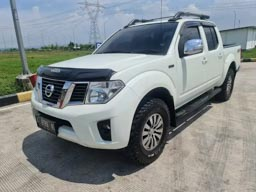plat: (34, 118, 55, 136)
